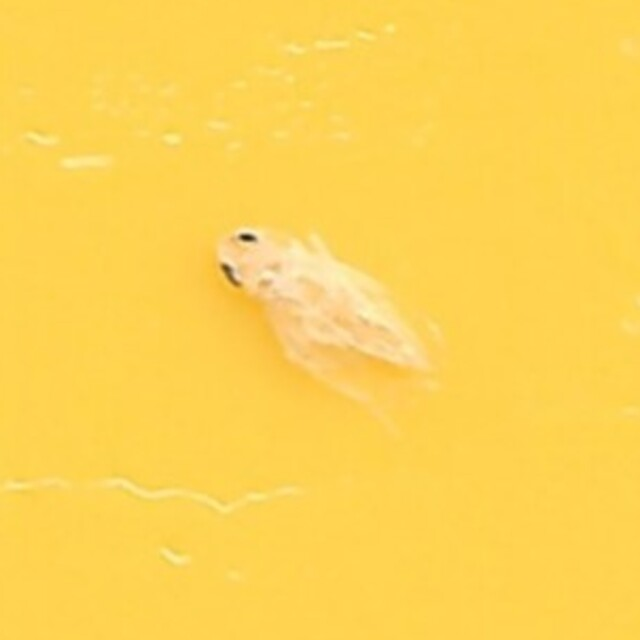Hemiptera: (212, 226, 428, 414)
